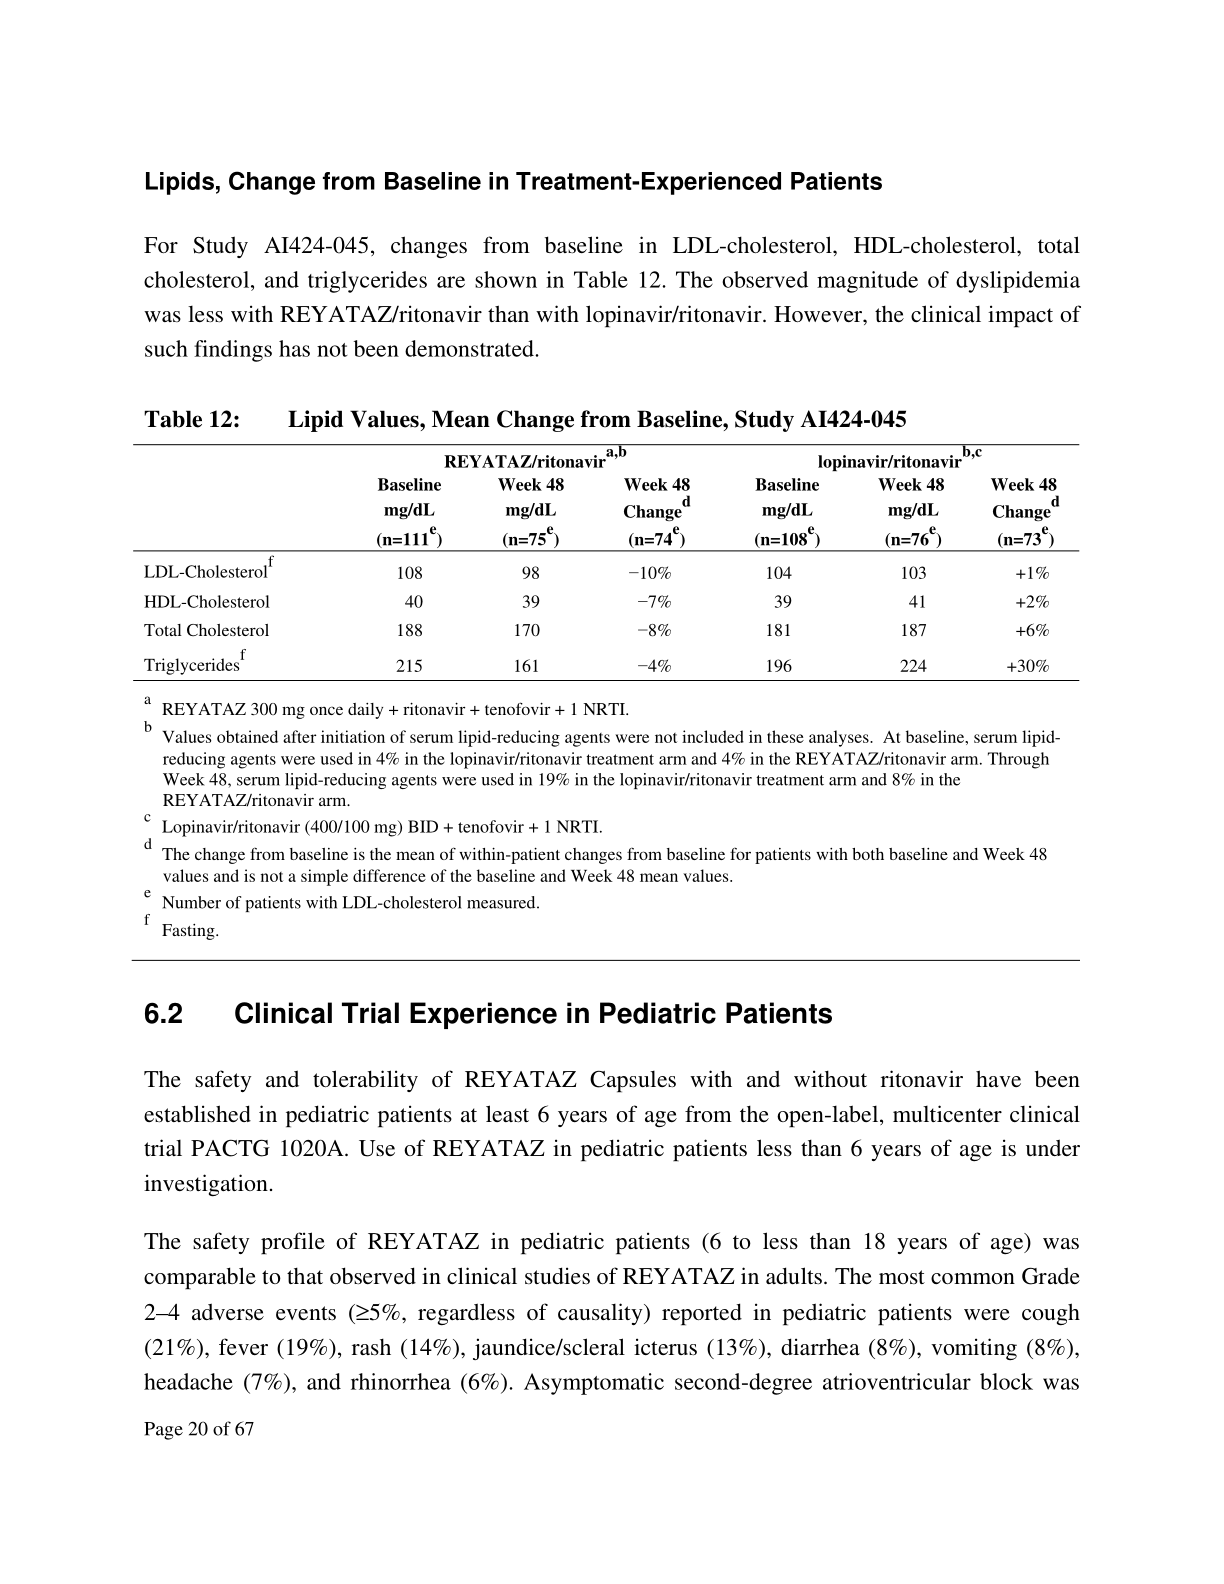partial_lined_merged_cells: (132, 441, 1083, 683)
